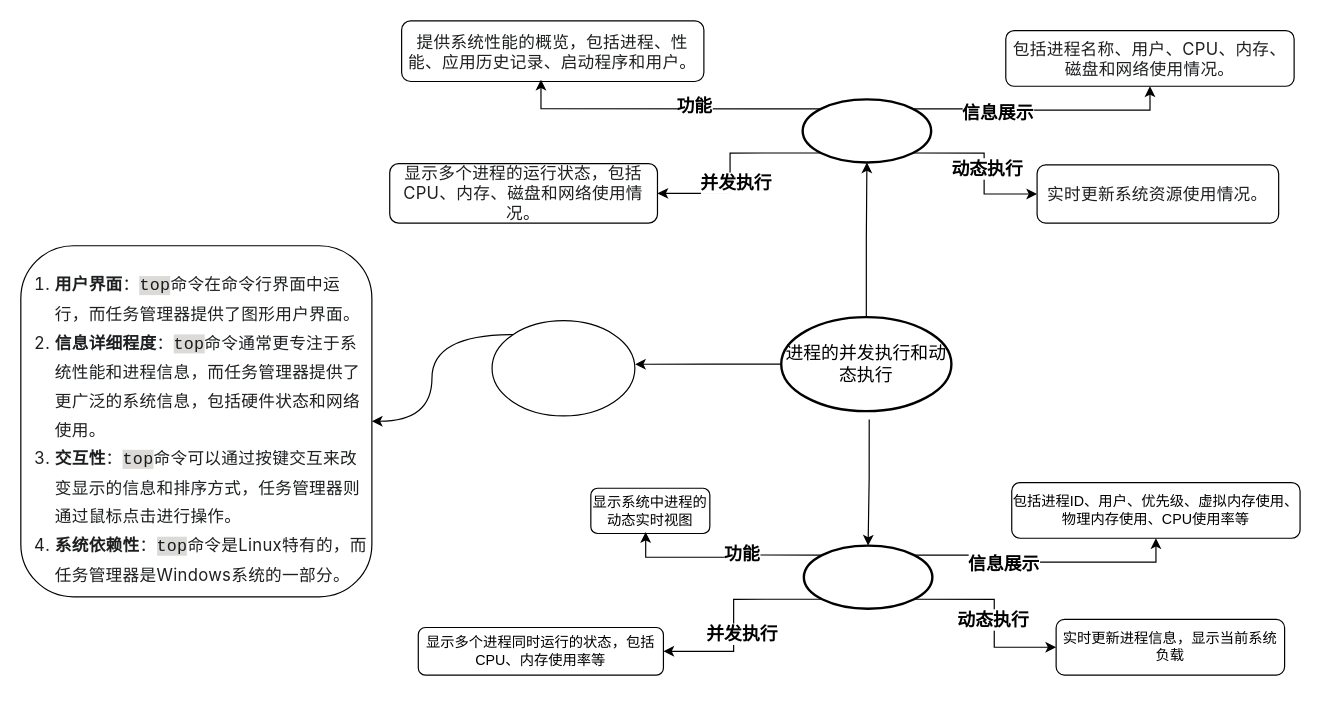
The diagram is 1321 pixels wide and 708 high, and some of its shapes have lost their labels. The centre of each missing label's shape, as x and y in pixels:
"linux top" goes at point (867, 576).
"windows任务管理器" goes at point (866, 130).
"两者差异性" goes at point (563, 368).
